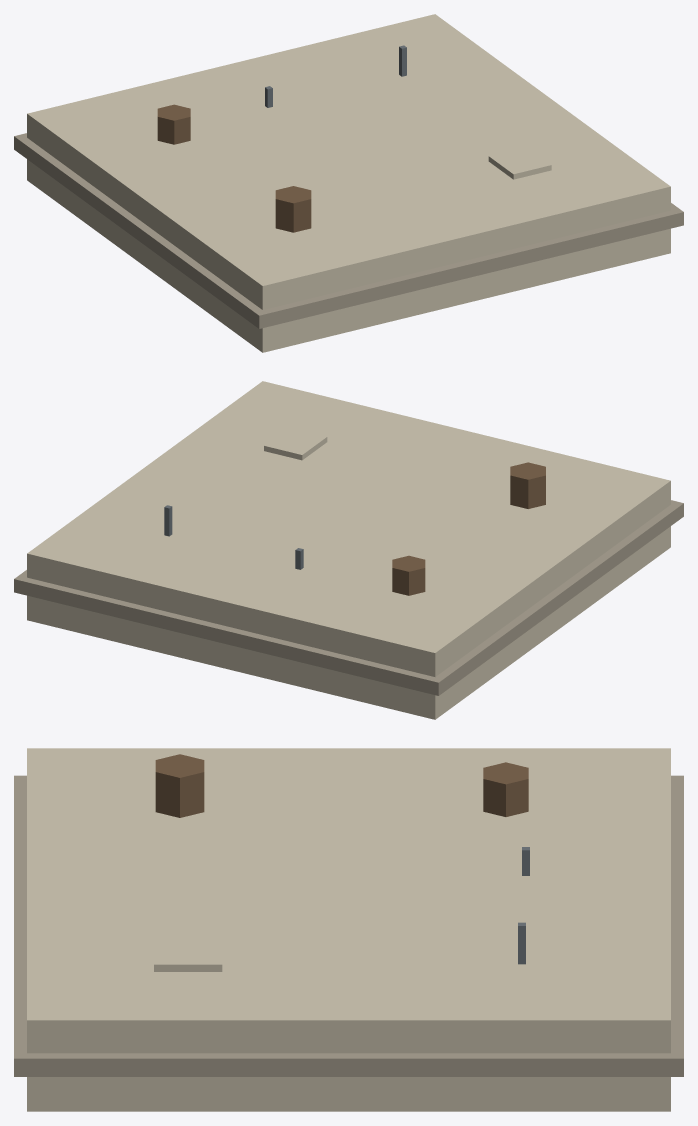
The model's file is tw_stone_32_crown_lod1.glb.
3 views of the same model, one above another, from view 1: azimuth 30°, elevation 25°; view 2: azimuth 150°, elevation 25°; view 3: azimuth 270°, elevation 25° (orthographic). The views are drawn at different scales.
Visible parts, largest first — view 1: tw_stone_32_crown_lod1; view 2: tw_stone_32_crown_lod1; view 3: tw_stone_32_crown_lod1.
Part boxes in pixels (left/top/right/bottom): tw_stone_32_crown_lod1: left=14, top=14, right=683, bottom=352; tw_stone_32_crown_lod1: left=14, top=381, right=683, bottom=719; tw_stone_32_crown_lod1: left=14, top=748, right=683, bottom=1111.
Size of the model in its own units: 33.3 by 7.2 by 33.3.
Materials: 2 (2 with a texture image).
